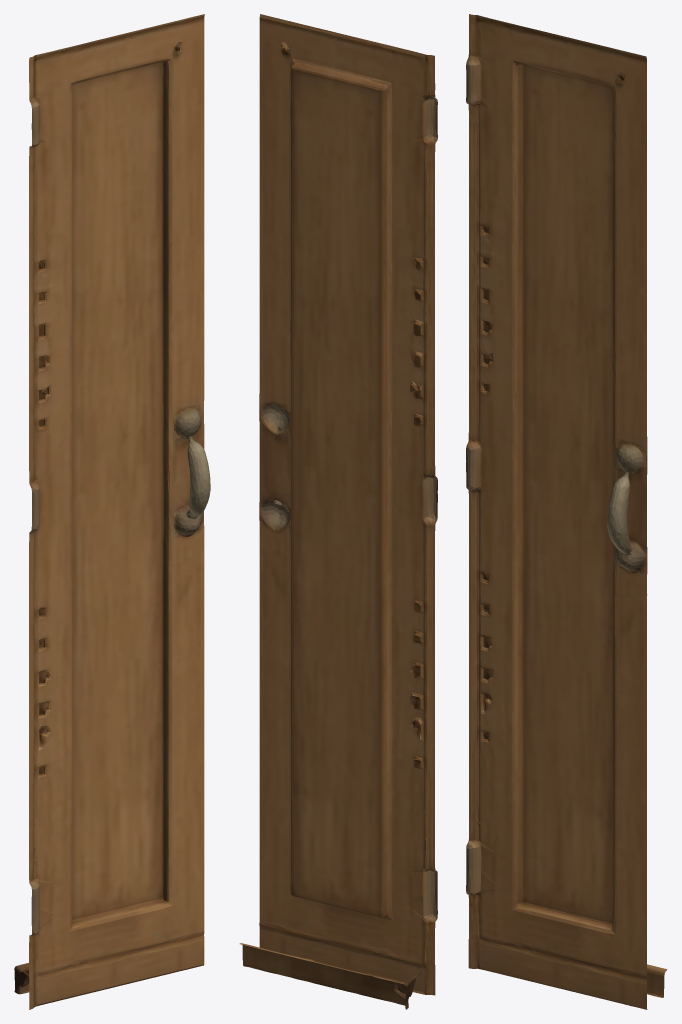
File: door_left.glb
The picture shows the model from 3 angles, left to right: view 1: azimuth 30°, elevation 25°; view 2: azimuth 150°, elevation 25°; view 3: azimuth 330°, elevation 25°; orthographic projection.
Visible parts, largest first — view 1: source_surface_0; view 2: source_surface_0; view 3: source_surface_0.
Part boxes in pixels (<box>): source_surface_0: <box>14,14,210,1009</box>; source_surface_0: <box>239,14,437,1009</box>; source_surface_0: <box>466,14,667,1009</box>.
Bounding box in the file's own units: 0.7741 × 3.99 × 0.2967.
Materials: 1 (1 with a texture image).
